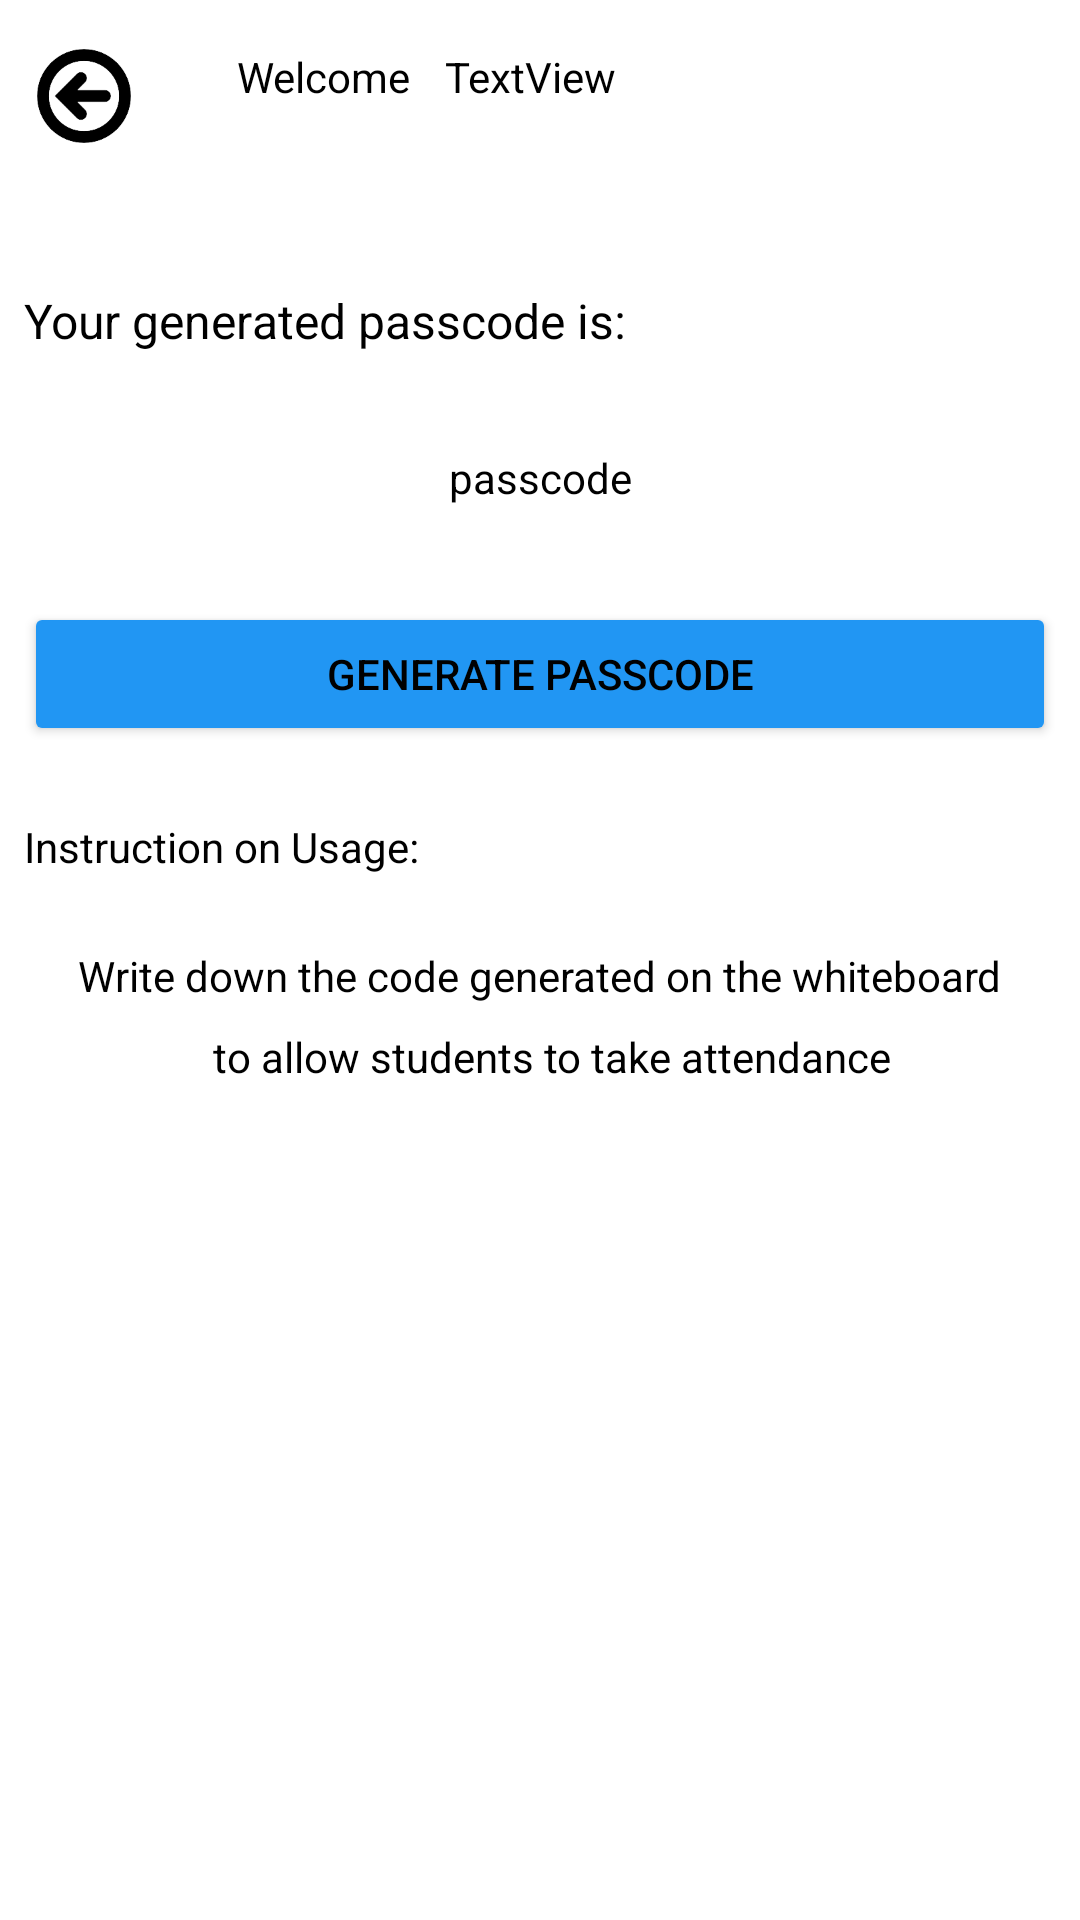

Locate icon controls on the screen. Image size 1080 × 1920, boxes as Rect(x1, y1, x2, y2).
backbutton: Rect(37, 49, 131, 143)
